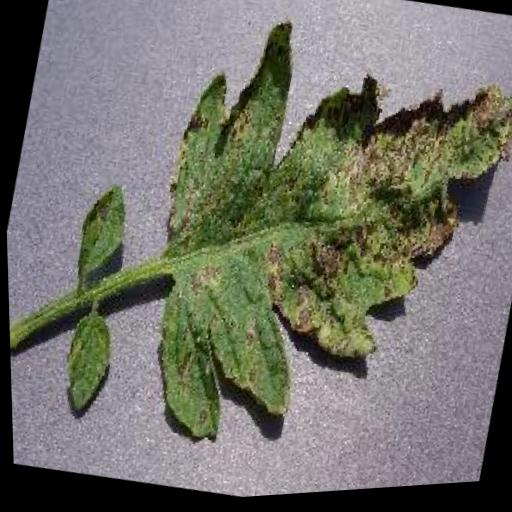Septoria: (114, 0, 512, 501)
